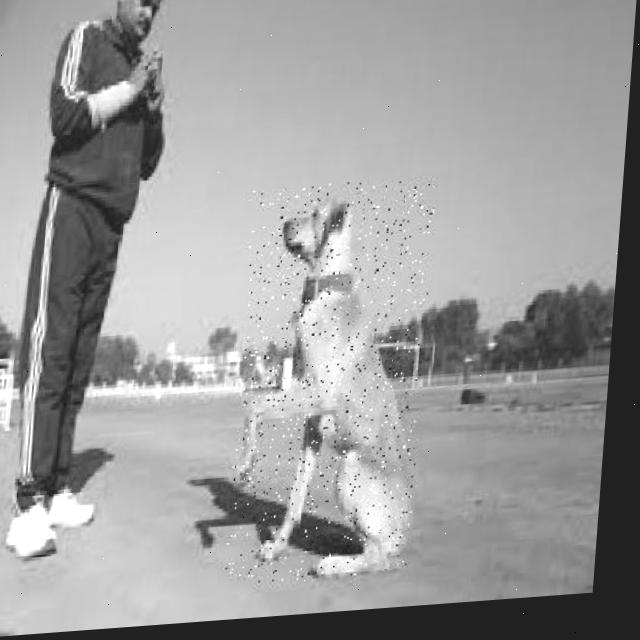Dog: (225, 175, 439, 586)
